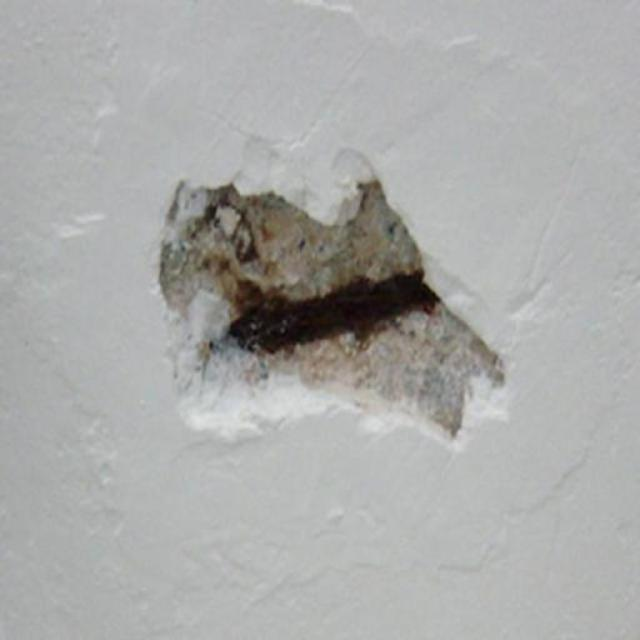D0w0: (158, 178, 509, 440)
